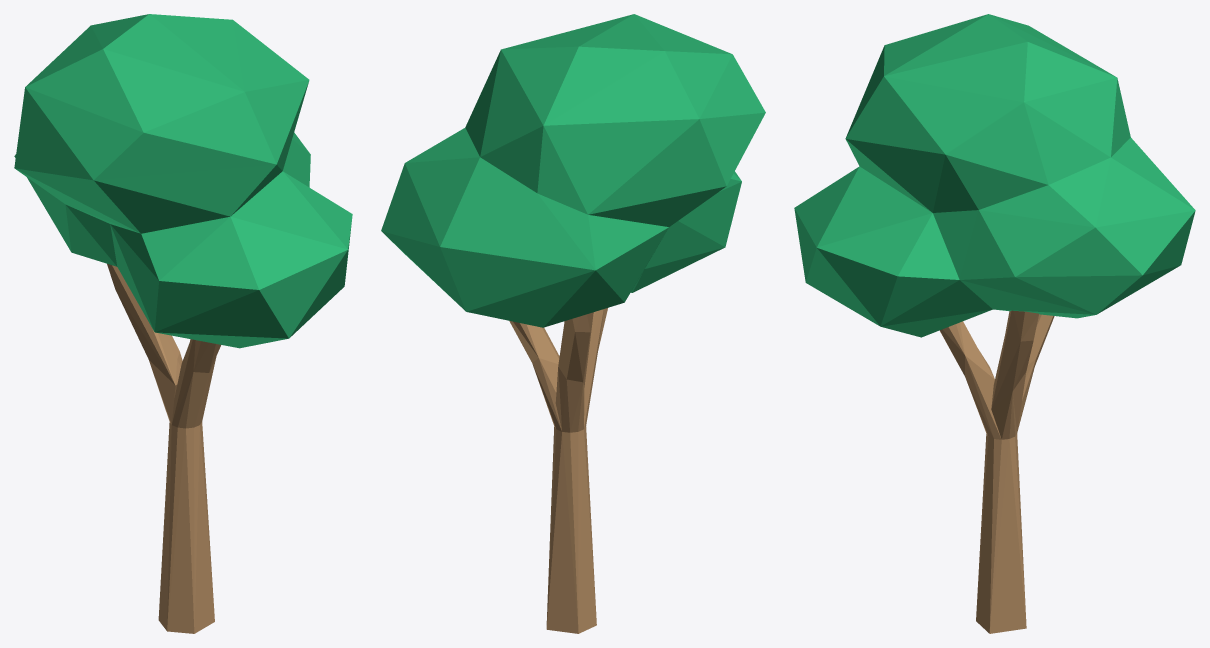
Rendered from lowPolyTree.gltf.
The picture shows the model from 3 angles, left to right: view 1: azimuth 30°, elevation 25°; view 2: azimuth 150°, elevation 25°; view 3: azimuth 270°, elevation 25°; orthographic projection. The views are drawn at different scales.
Visible parts, largest first — view 1: Puu; view 2: Puu; view 3: Puu.
Part boxes in pixels (x1,y1,x2,y2): Puu: (14, 14, 352, 633); Puu: (381, 14, 765, 633); Puu: (794, 14, 1195, 633).
Size of the model in its own units: 8.56 by 16.59 by 10.56.
1 material, 1 textured.
